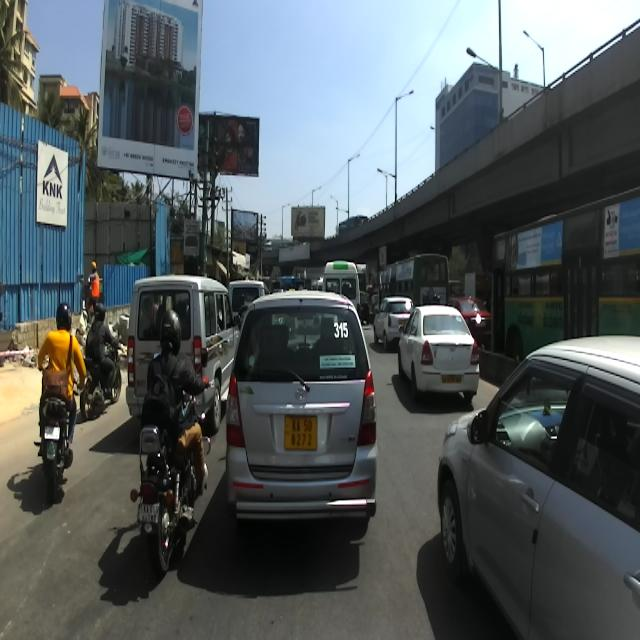car ahead at: (437, 336, 640, 640), (235, 284, 374, 540), (396, 299, 484, 407)
motorcycle ahead at: (138, 419, 215, 568), (28, 388, 88, 499)
